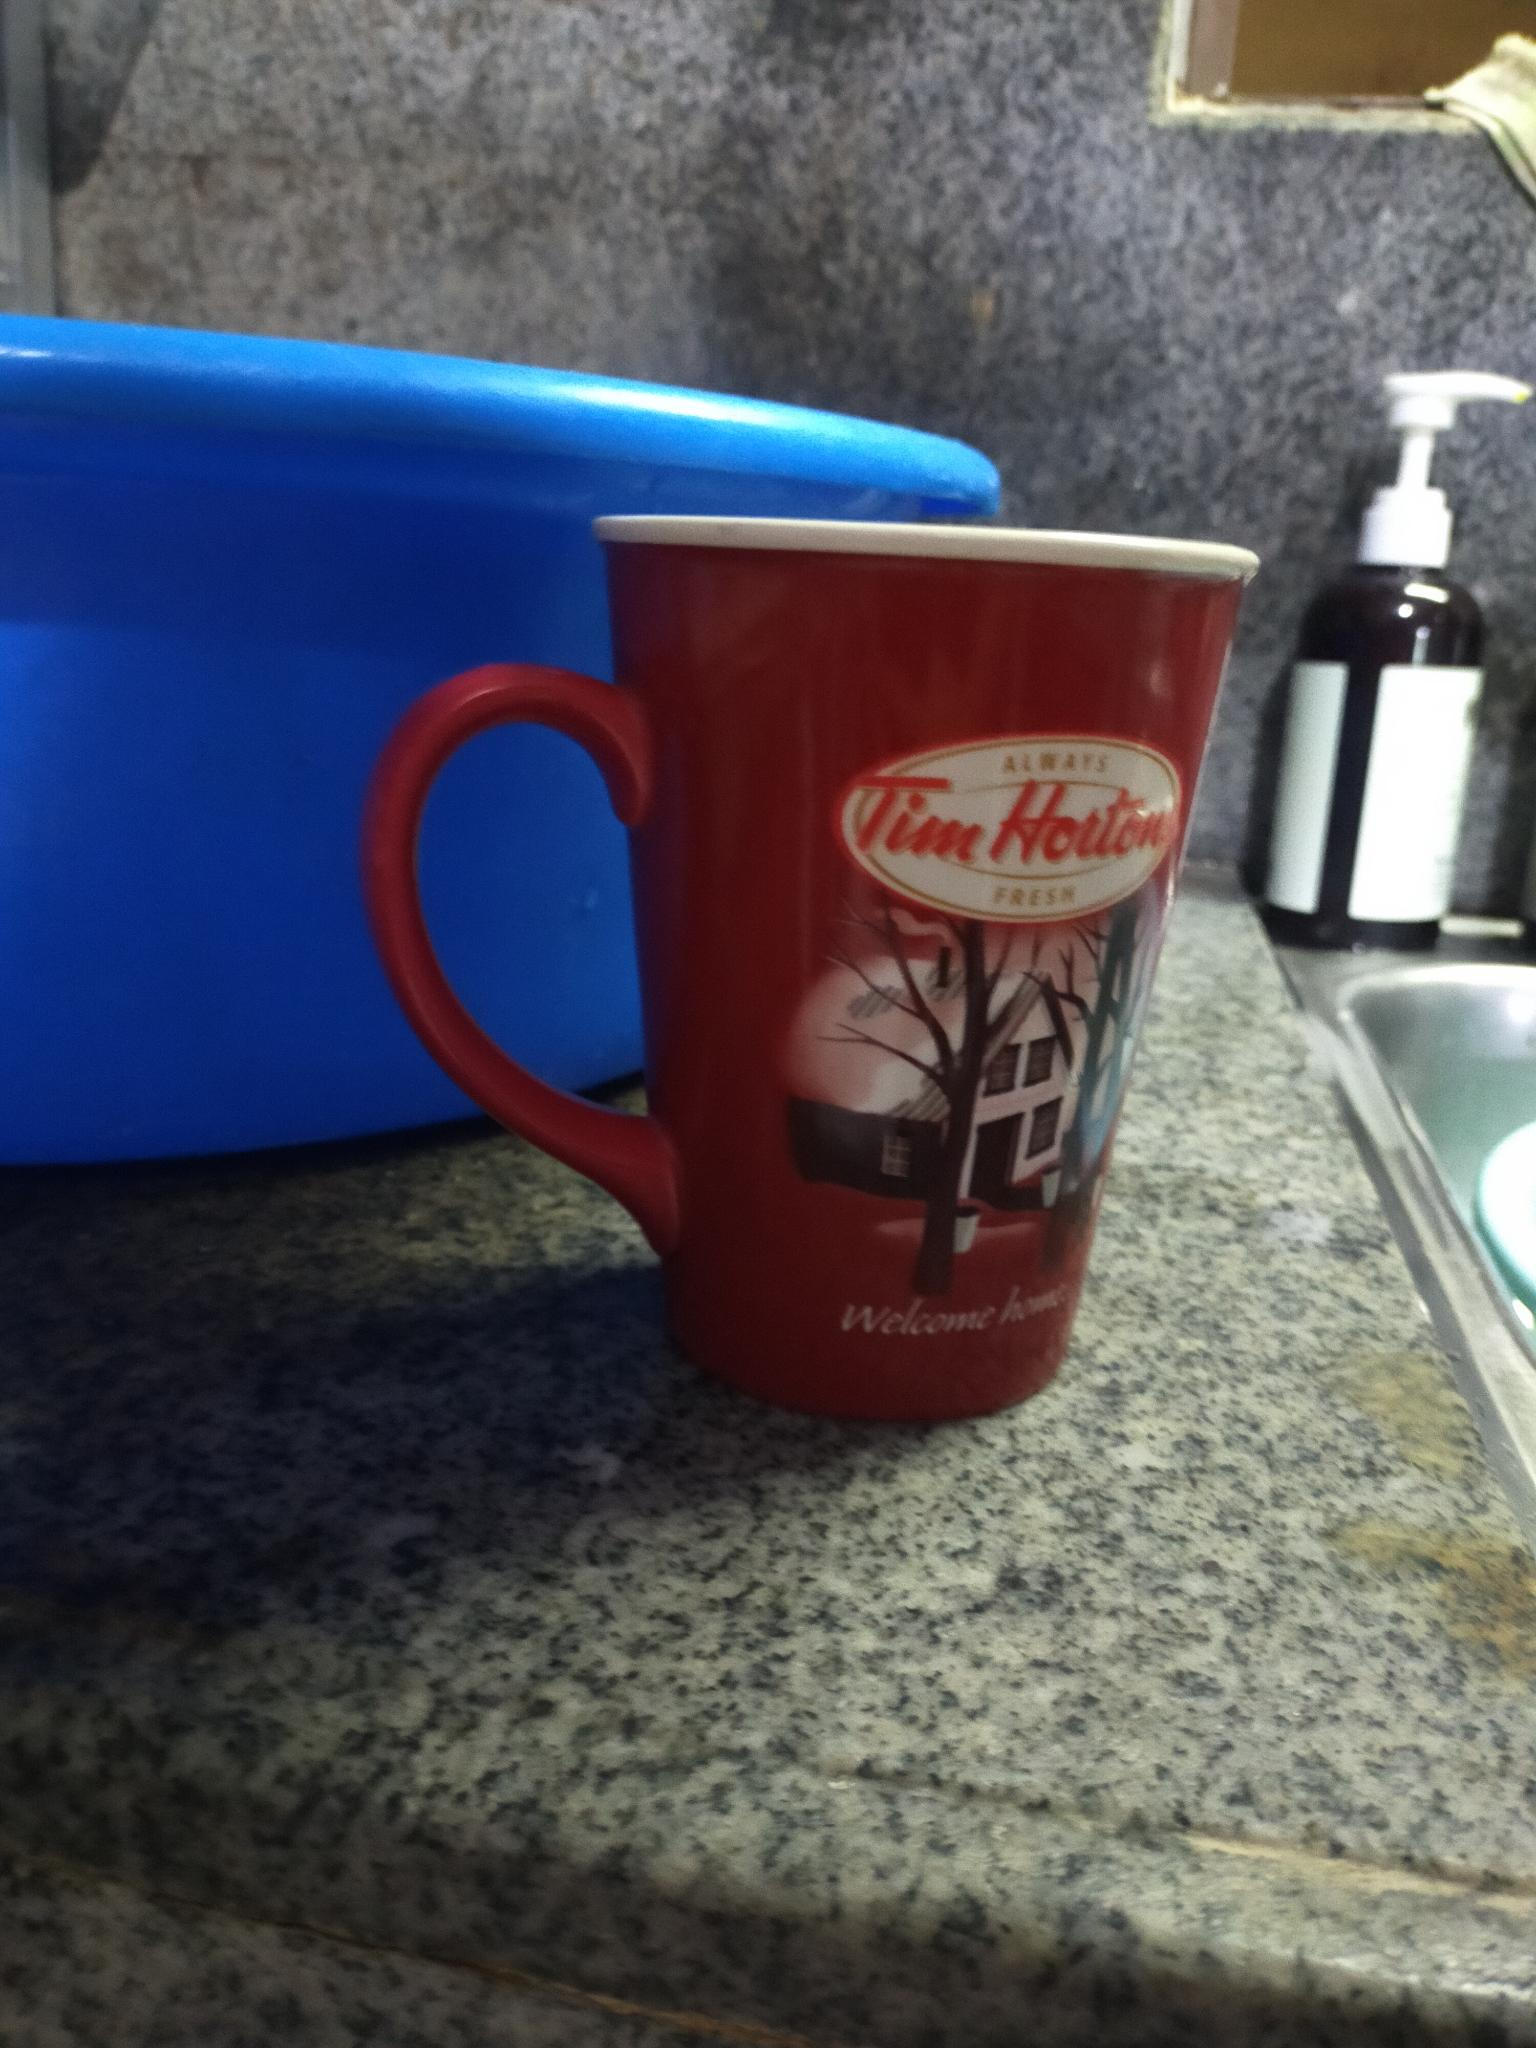Coffee Mug: (350, 510, 1262, 1422)
